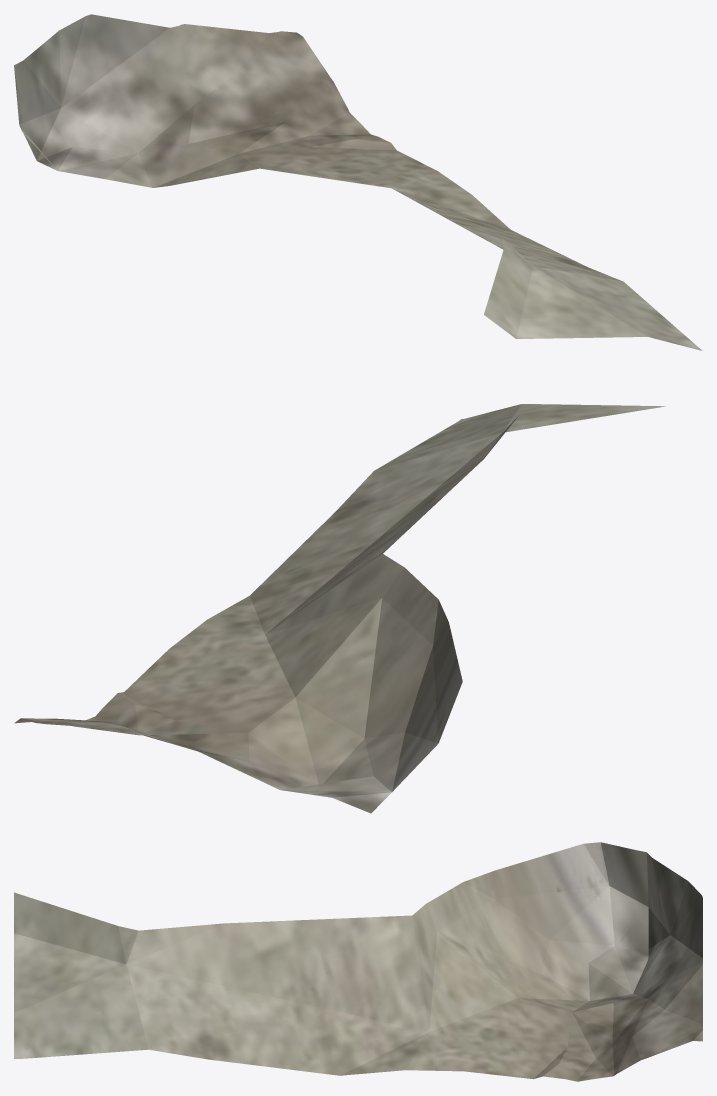
3 views of the same model, one above another, from view 1: azimuth 30°, elevation 25°; view 2: azimuth 150°, elevation 25°; view 3: azimuth 270°, elevation 25° (orthographic). The views are drawn at different scales.
Bounding box in the file's own units: 1.43 × 0.496 × 2.95.
Materials: 1 (1 with a texture image).
